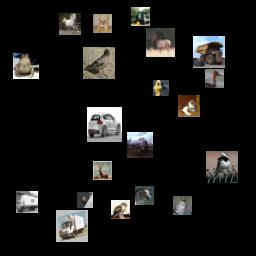airplane: (127, 132, 153, 158)
automobile: (87, 107, 122, 142)
bird: (206, 151, 238, 183), (83, 47, 115, 79), (111, 200, 130, 219), (205, 69, 224, 88), (153, 80, 169, 96)
cat: (178, 95, 200, 117), (173, 196, 192, 215), (77, 192, 93, 208)
deer: (146, 28, 175, 57), (93, 161, 112, 180)
dog: (93, 14, 112, 33)
frog: (13, 53, 39, 79)
truck: (56, 210, 88, 242), (193, 36, 225, 68), (16, 191, 38, 213), (131, 7, 150, 26)
